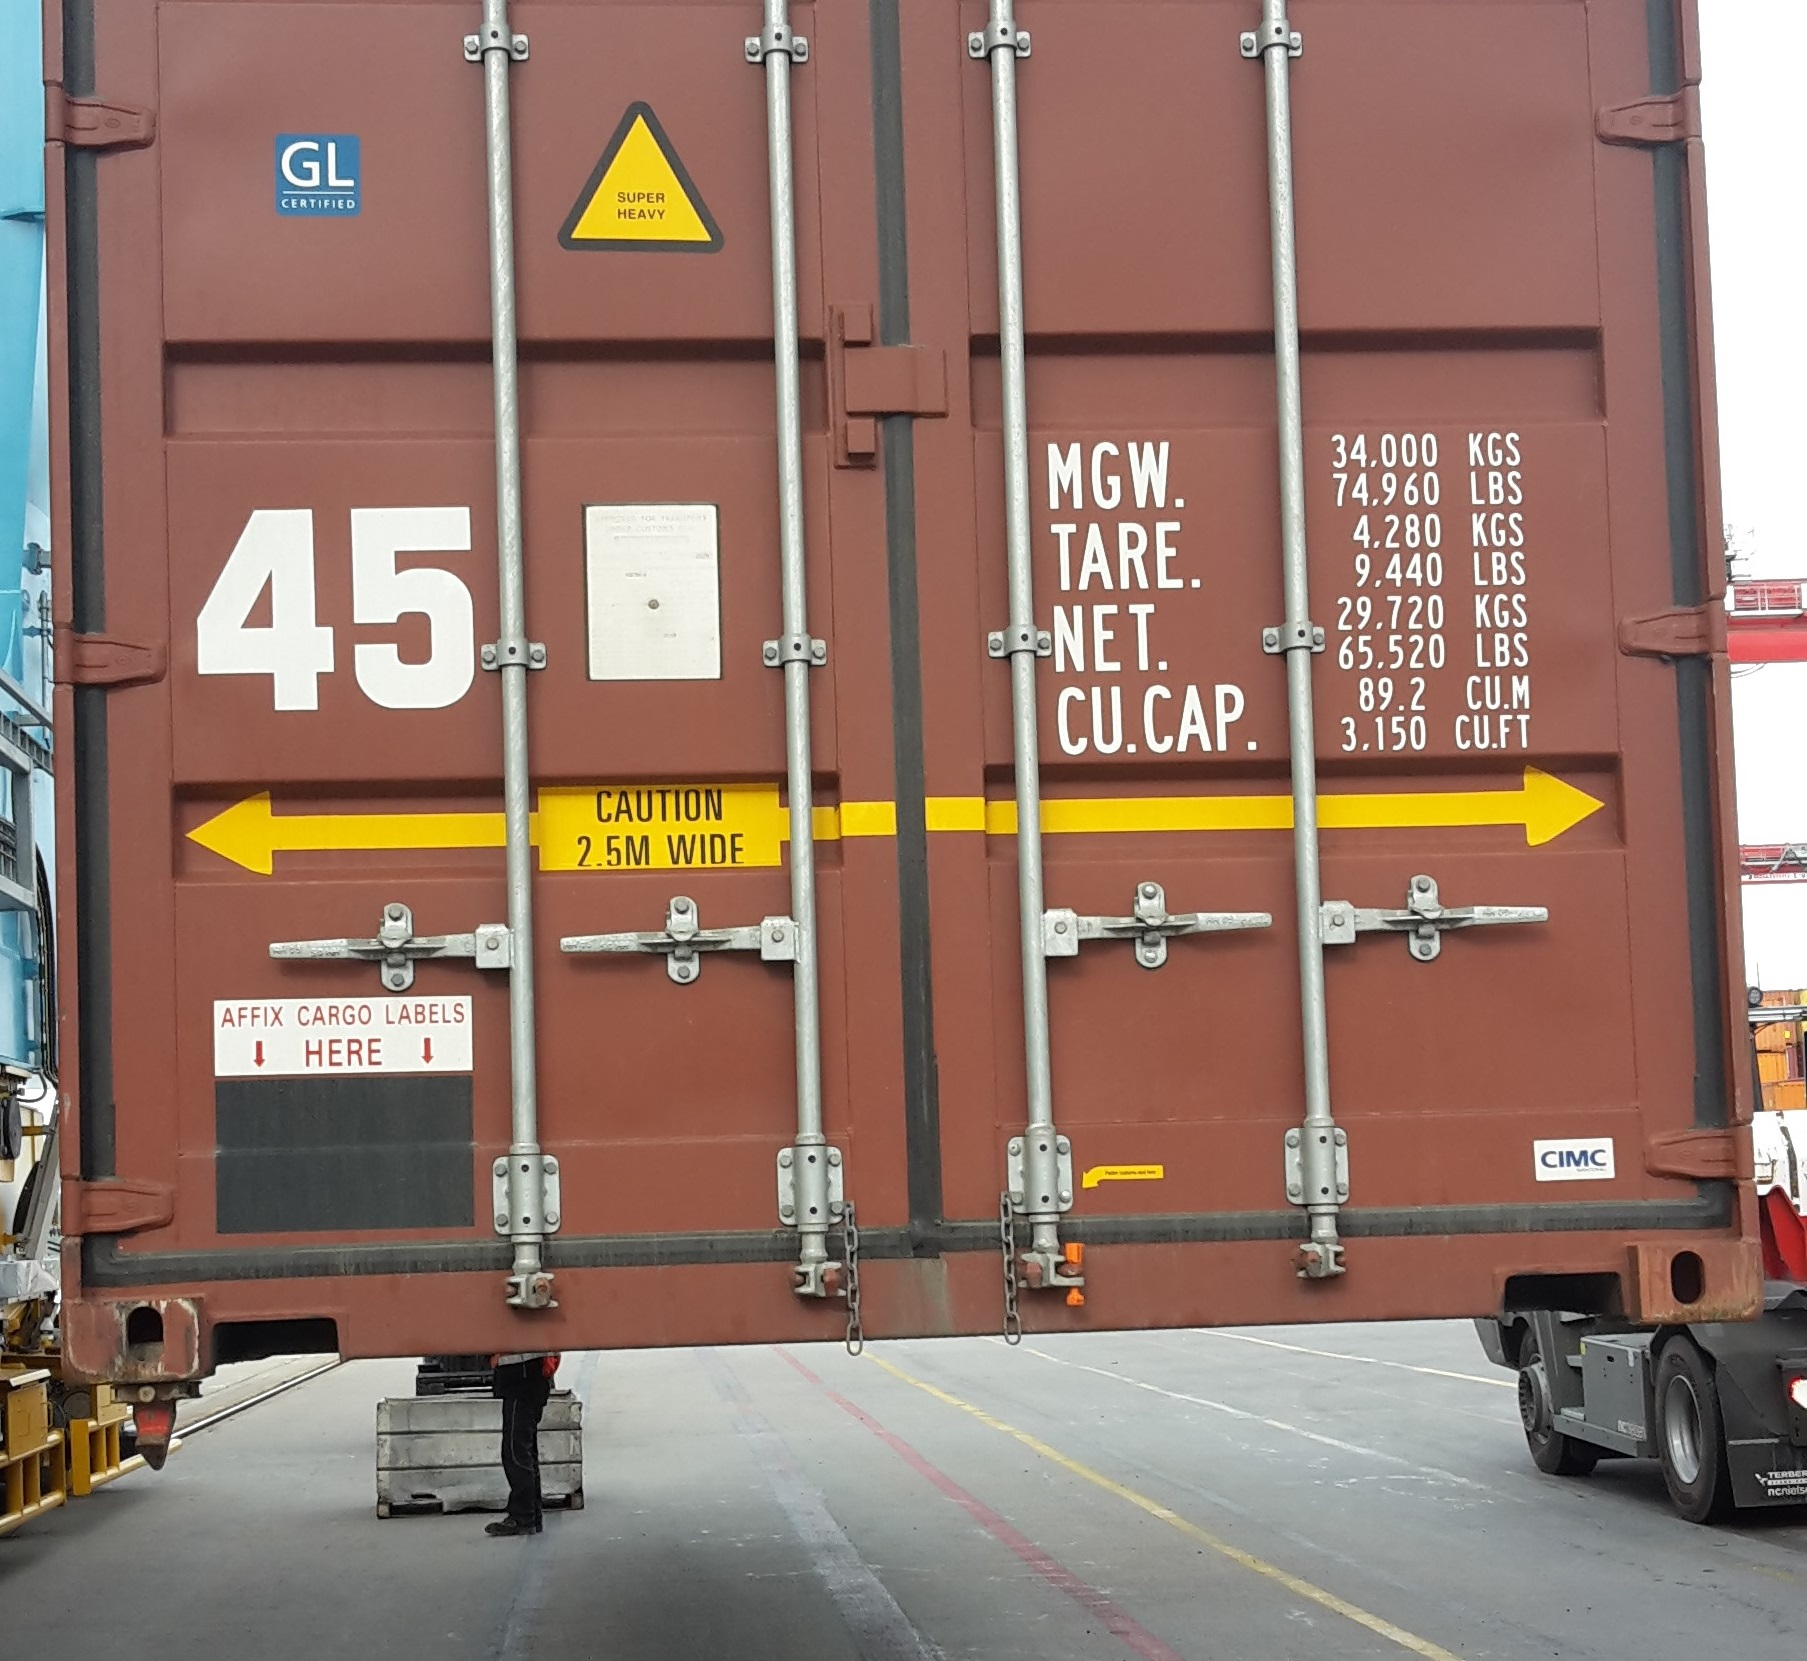container_door: (74, 2, 1709, 1392)
